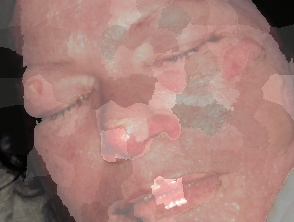SJS-TEN: (94, 154, 248, 222), (87, 100, 193, 175), (198, 20, 281, 103), (149, 65, 192, 100), (17, 68, 53, 102)
